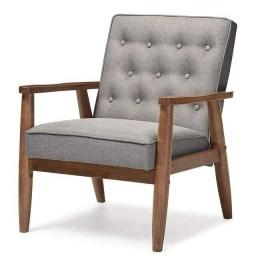Chair: (20, 17, 231, 253)
